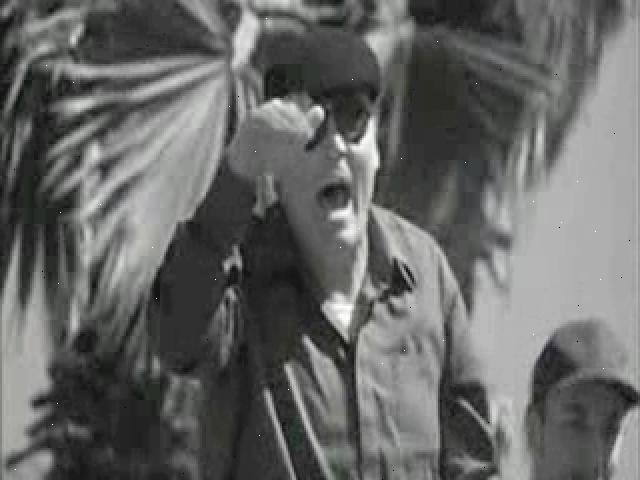T: (158, 28, 507, 479)
